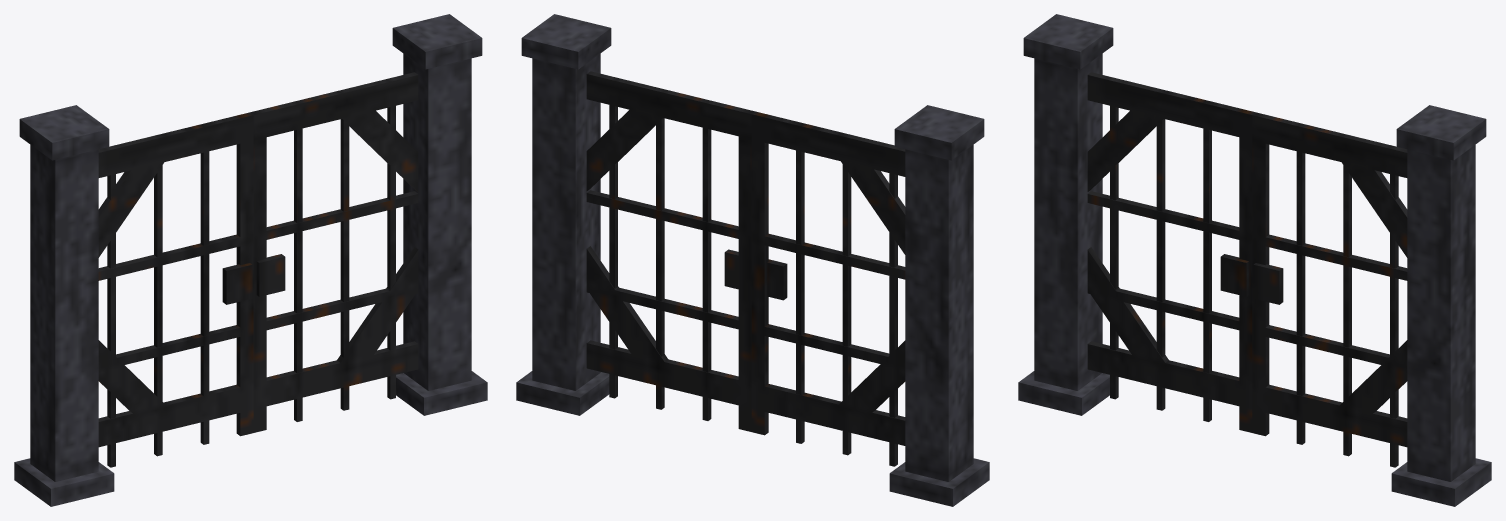
The model's file is BarricadeThief.fbx.
The picture shows the model from 3 angles, left to right: view 1: azimuth 30°, elevation 25°; view 2: azimuth 150°, elevation 25°; view 3: azimuth 330°, elevation 25°; orthographic projection.
Parts seen in each view (by area): view 1: BarricadeThiefSides, BarricadeThiefRight, BarricadeThiefLeft; view 2: BarricadeThiefSides, BarricadeThiefRight, BarricadeThiefLeft; view 3: BarricadeThiefSides, BarricadeThiefLeft, BarricadeThiefRight.
Part boxes in pixels (x1,y1,x2,y2): BarricadeThiefSides: [14, 14, 487, 506]; BarricadeThiefRight: [250, 72, 418, 432]; BarricadeThiefLeft: [98, 112, 253, 467]; BarricadeThiefSides: [516, 14, 989, 506]; BarricadeThiefRight: [586, 71, 754, 431]; BarricadeThiefLeft: [751, 111, 905, 466]; BarricadeThiefSides: [1018, 14, 1491, 506]; BarricadeThiefLeft: [1087, 72, 1255, 432]; BarricadeThiefRight: [1252, 112, 1407, 467].
Size of the model in its own units: 1.87 by 1.48 by 0.272.
